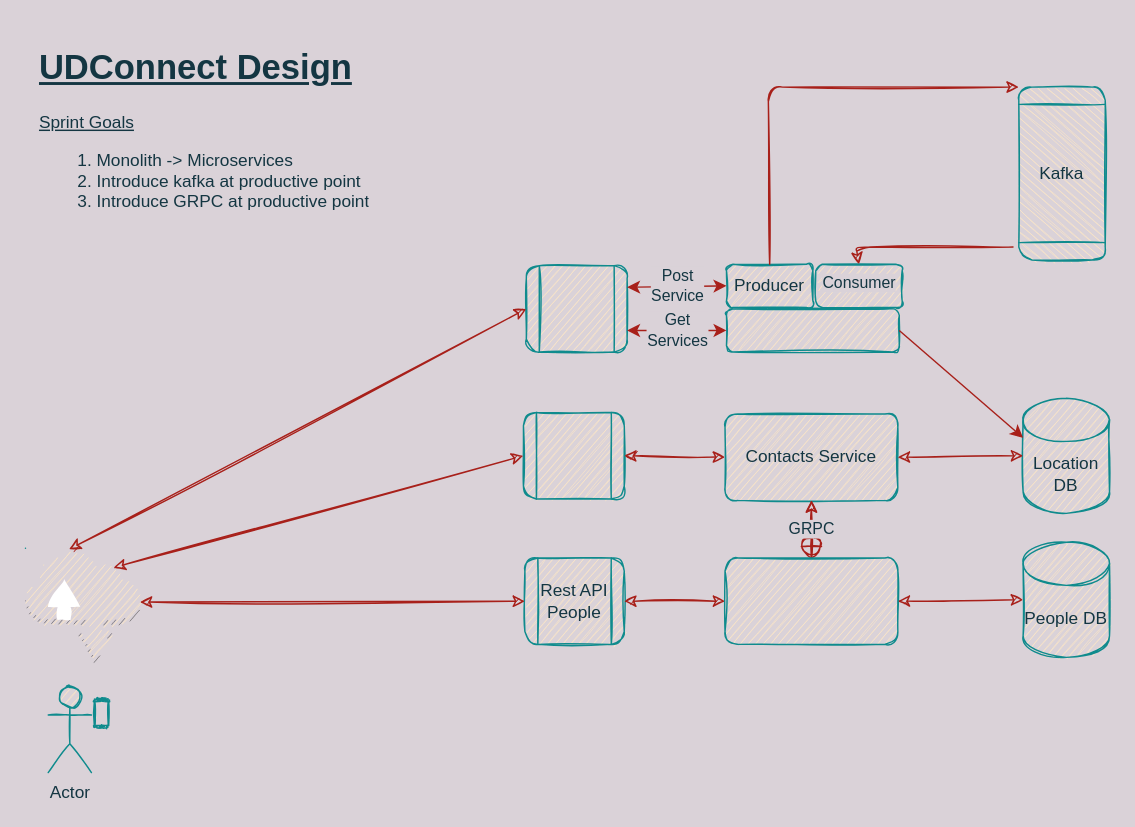
The diagram is 1135 pixels wide and 827 high, and some of its shapes have lost their labels. The centre of each missing label's shape, as x and y in pixels:
Location Service: [812,329]
People Service: [811,600]
Rest API Contacts: [573,455]
Rest API Location: [576,308]
